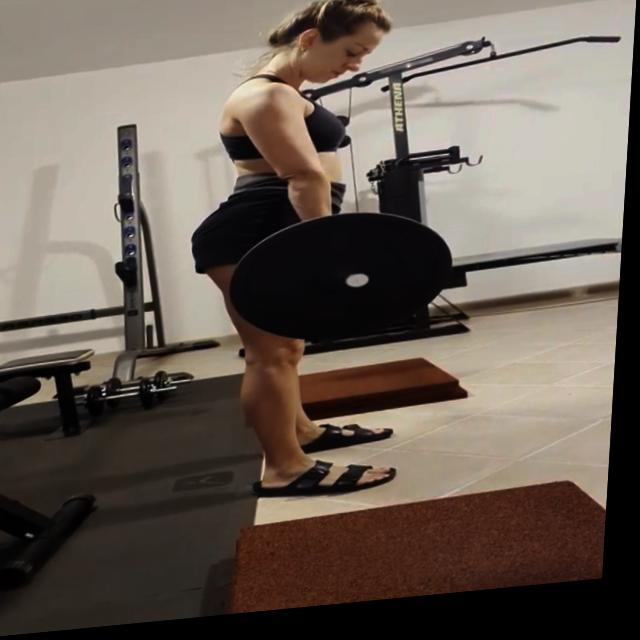barbell: (228, 207, 467, 360)
